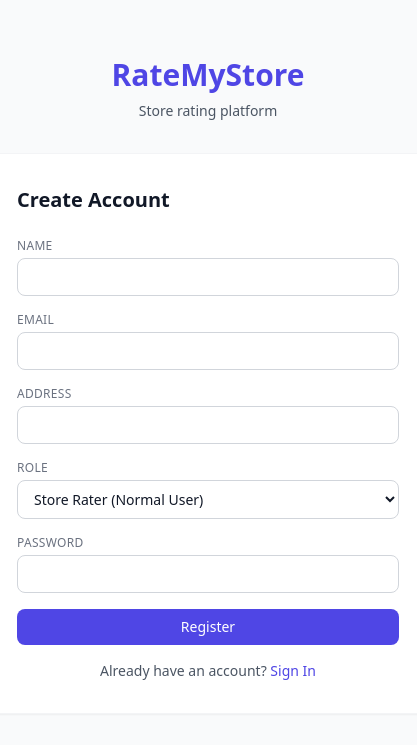
Register Page Component › shows validation error when name is too short
In the field labelled "Name": (208, 276) x1=17 y1=258 x2=399 y2=296, type "Short Name"
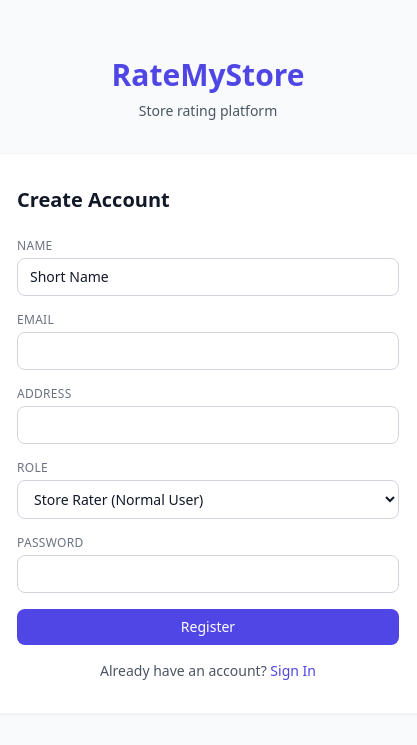
Click the button "Register": (208, 626) x1=17 y1=608 x2=399 y2=644
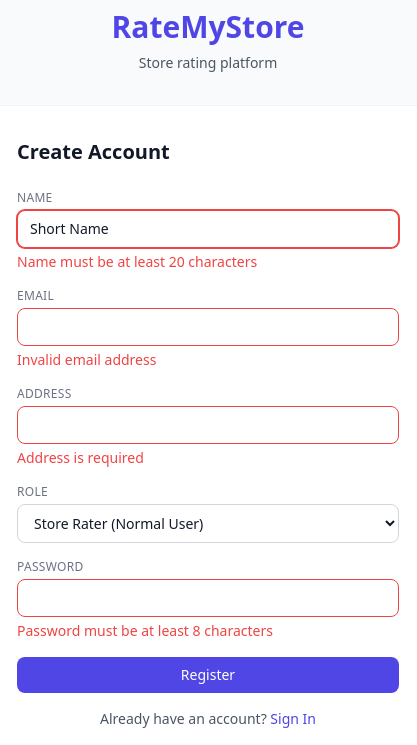
Check: the text "Name must be at least 20 characters" is shown, box x1=17 y1=252 x2=257 y2=270
